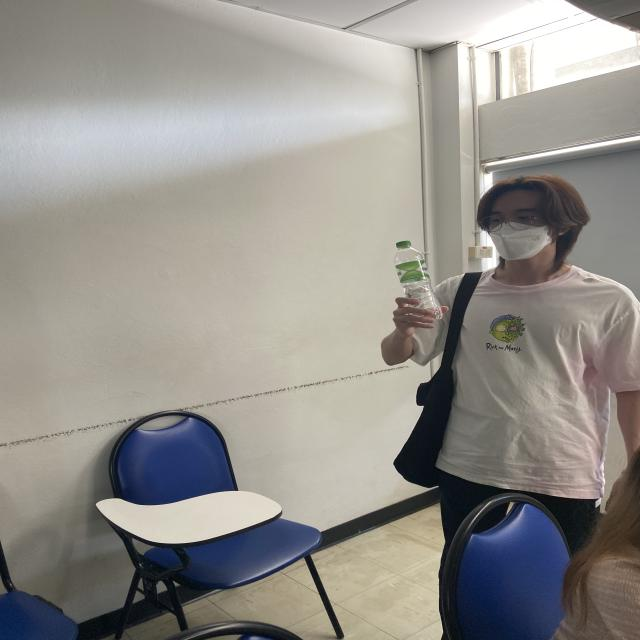bottle: (393, 240, 444, 321)
